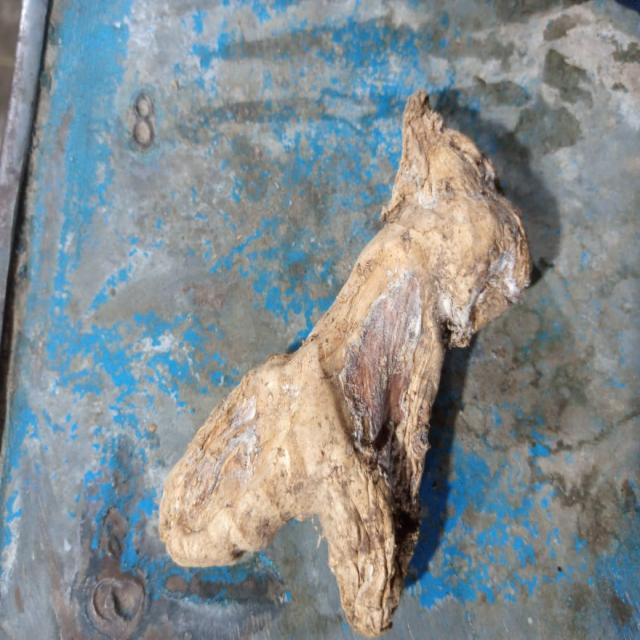ginger: (160, 120, 539, 622)
